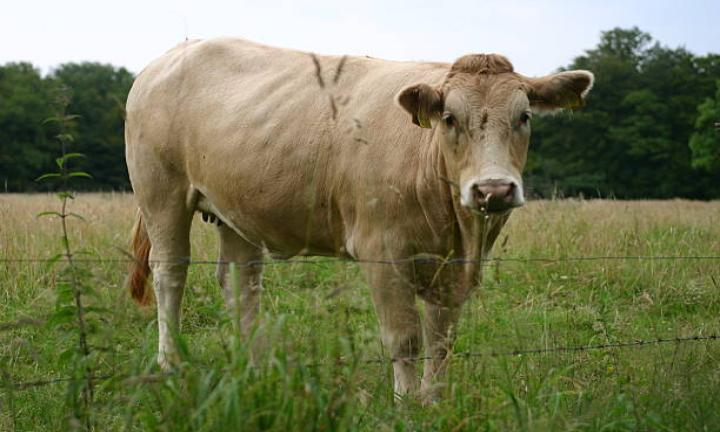Charolais: (126, 38, 593, 393)
